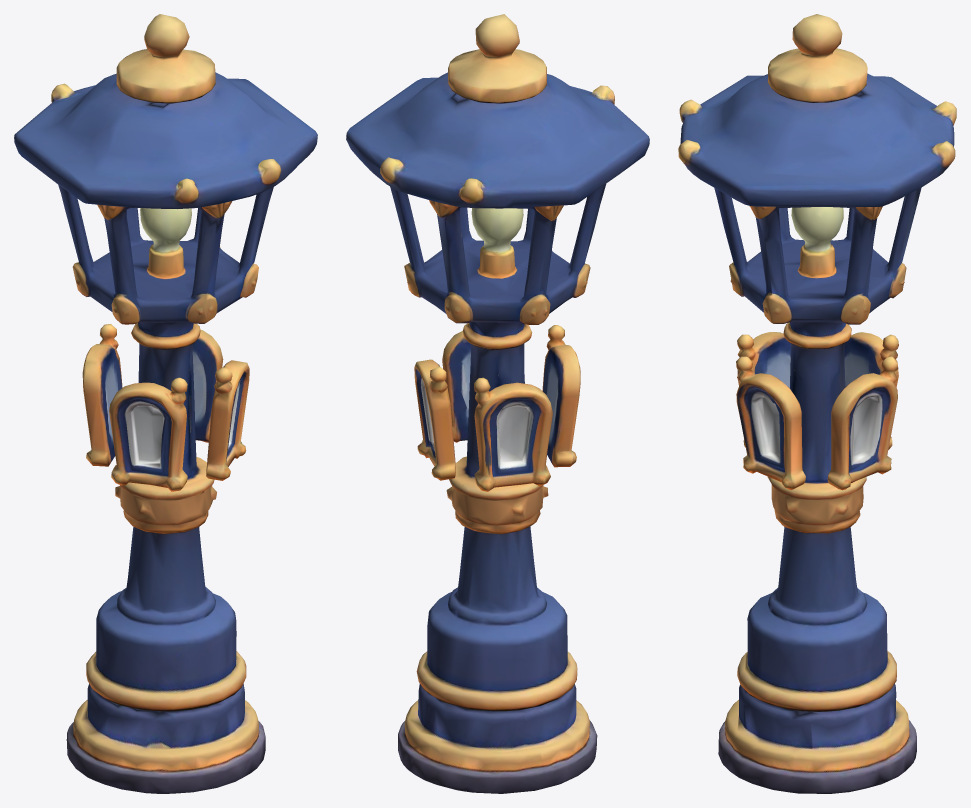
The model's file is lamp_post.glb.
The picture shows the model from 3 angles, left to right: view 1: azimuth 30°, elevation 25°; view 2: azimuth 150°, elevation 25°; view 3: azimuth 270°, elevation 25°; orthographic projection.
Parts seen in each view (by area): view 1: tripo_node_bac620a5-e544-44df-baaf-49a0a715bfef; view 2: tripo_node_bac620a5-e544-44df-baaf-49a0a715bfef; view 3: tripo_node_bac620a5-e544-44df-baaf-49a0a715bfef.
Boxes of the visible parts, box(x1,y1,x2,y2) form: tripo_node_bac620a5-e544-44df-baaf-49a0a715bfef: box(14, 14, 317, 793); tripo_node_bac620a5-e544-44df-baaf-49a0a715bfef: box(346, 14, 649, 793); tripo_node_bac620a5-e544-44df-baaf-49a0a715bfef: box(678, 14, 956, 793).
Size of the model in its own units: 0.3375 by 0.9999 by 0.342.
1 material, 1 textured.
